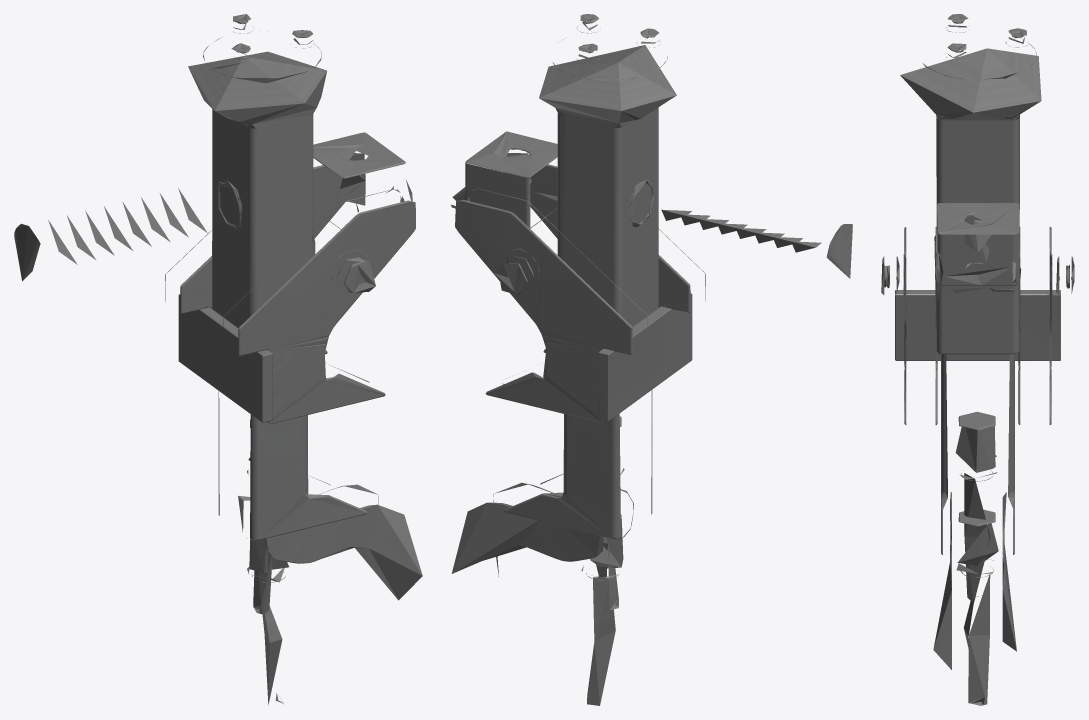
The model's file is tireTool_bead_breaker_a01.glb.
3 views of the same model, side by side, from view 1: azimuth 30°, elevation 25°; view 2: azimuth 150°, elevation 25°; view 3: azimuth 270°, elevation 25° (orthographic).
Visible parts, largest first — view 1: geometry_0; view 2: geometry_0; view 3: geometry_0.
Part boxes in pixels (left/top/right/bottom): geometry_0: left=14, top=14, right=422, bottom=704; geometry_0: left=451, top=14, right=852, bottom=705; geometry_0: left=881, top=14, right=1074, bottom=705.
Bounding box in the file's own units: 0.2478 × 0.42 × 0.1104.
1 material, 1 textured.
